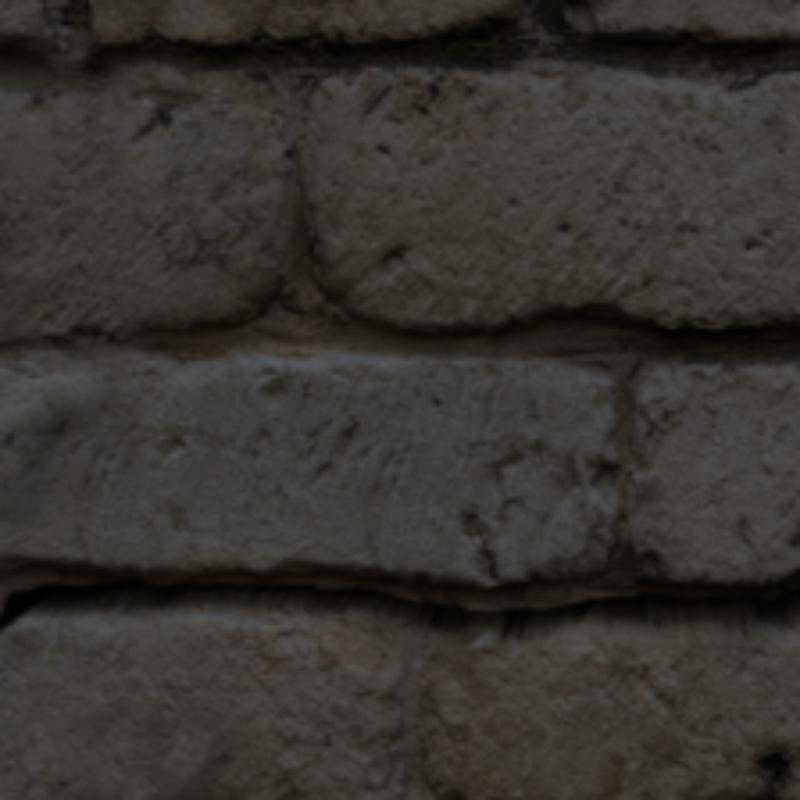pothole: (0, 579, 796, 639)
